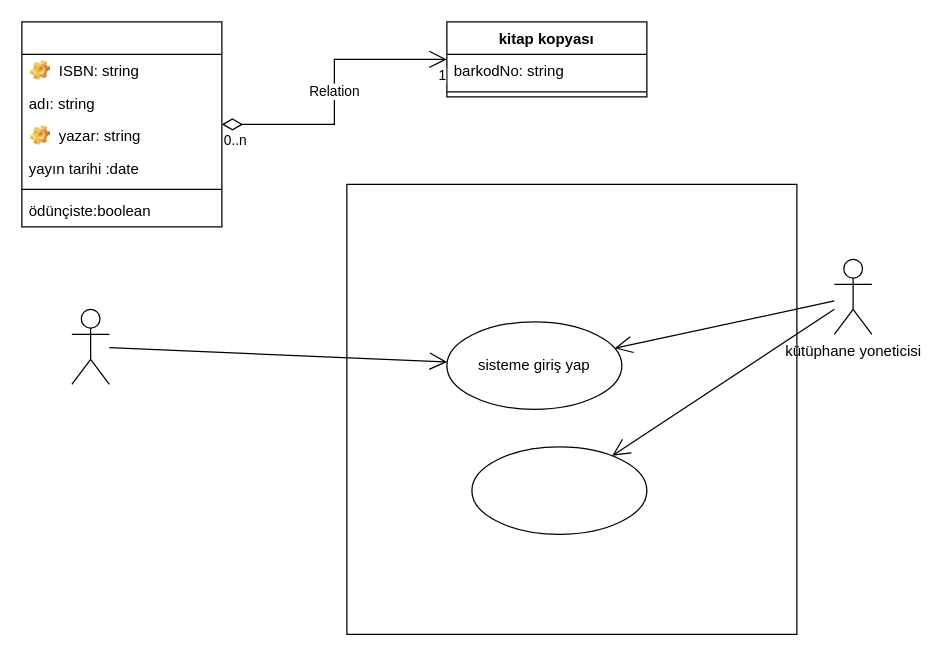
Some shapes in this 943 by 656 pixel diagram are drawn without their labels. Each missing label, with the box of its shape:
Kitap: (21, 21, 222, 227)
kitap ara: (471, 446, 647, 534)
üye: (71, 308, 109, 384)
